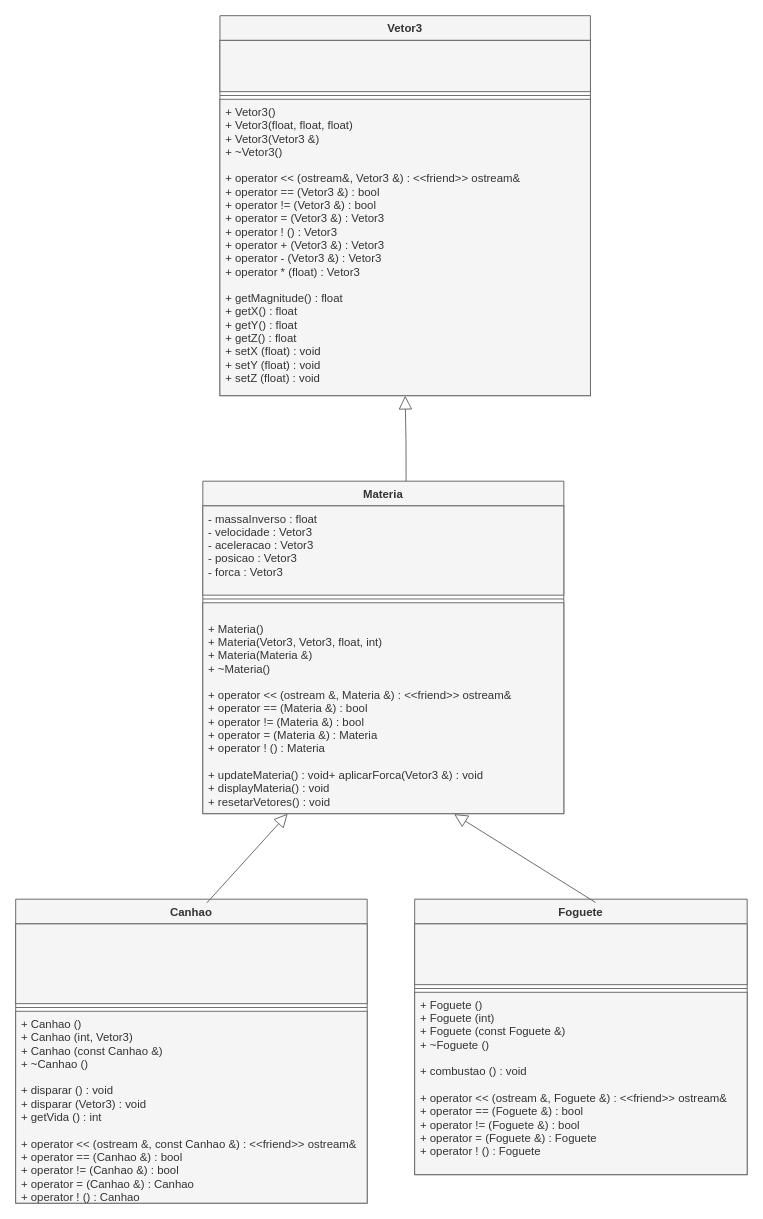
Some shapes in this 763 by 1219 pixel diagram are drawn without their labels. The centre of each missing label's shape, as x and y in pixels:
+ BALAPESO : float + vida : int + forcaDisparo : Vetor3 + bala : Materia: pixel 191 963
+ PESOFOGUETE : int + gasolina : float + foguete : Materia: pixel 580 954
- x : float - y : float - z : float: pixel 404 65
